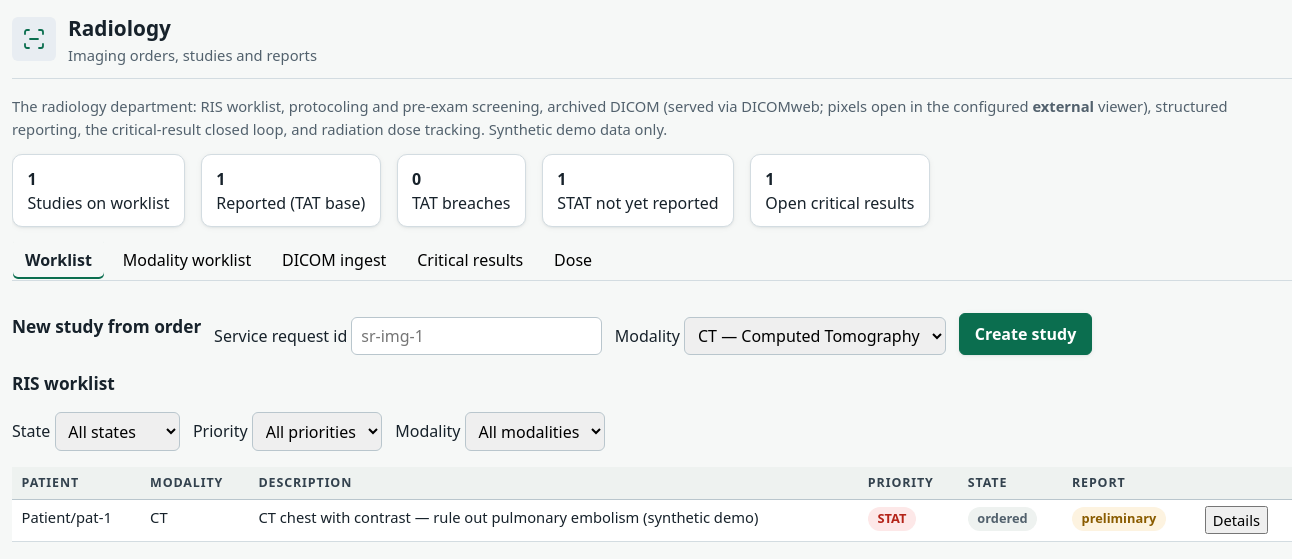
Test: RadiologyPage (Phase 15 department) › renders the modality worklist tab from DICOM JSON with RIS status
Expected: the text "CT chest with contrast — rule out pulmonary embolism (synthetic demo)" is shown, x1=249 y1=499 x2=858 y2=541
Click the tab "Modality worklist": click(187, 260) x1=110 y1=240 x2=264 y2=280
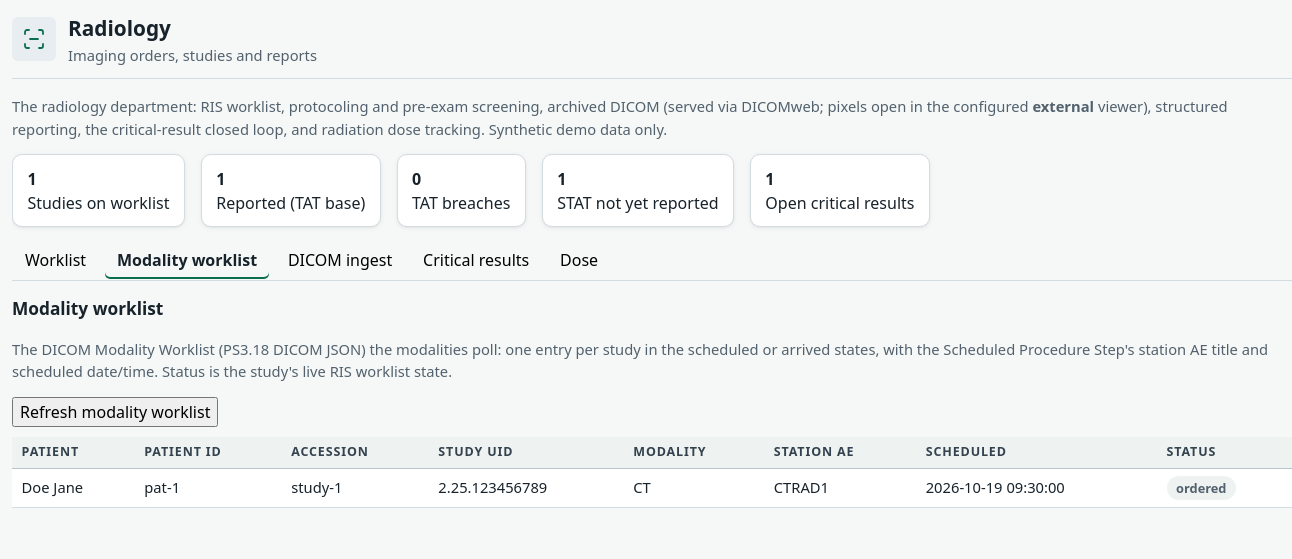
Expected: the text "Doe Jane" is shown, x1=12 y1=469 x2=135 y2=507
Expected: the text "CTRAD1" is shown, x1=764 y1=469 x2=916 y2=507
Expected: the text "2026-10-19 09:30:00" is shown, x1=916 y1=469 x2=1157 y2=507
